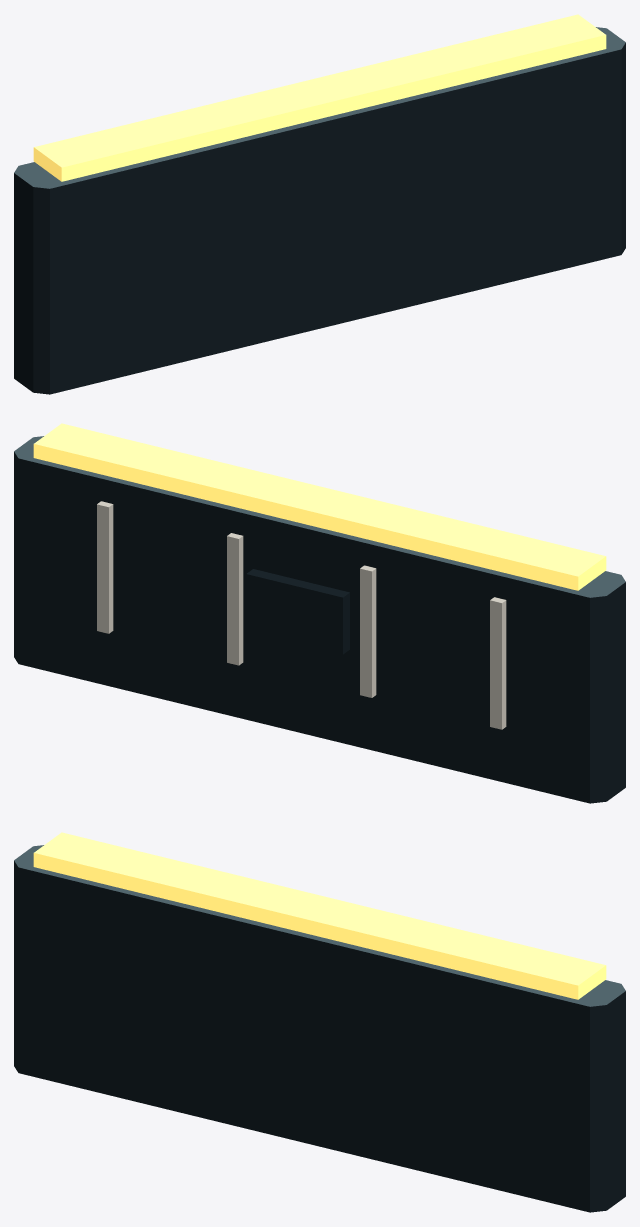
Rendered from door.glb.
3 renders of one model, top to bottom at view 1: azimuth 30°, elevation 25°; view 2: azimuth 150°, elevation 25°; view 3: azimuth 330°, elevation 25°, orthographic.
Parts seen in each view (by area): view 1: door; view 2: door; view 3: door.
Part boxes in pixels (x1,y1,x2,y2): door: (14,14,625,394); door: (14,423,625,803); door: (14,832,625,1212).
Bounding box in the file's own units: 1.96 × 0.7025 × 0.235.
